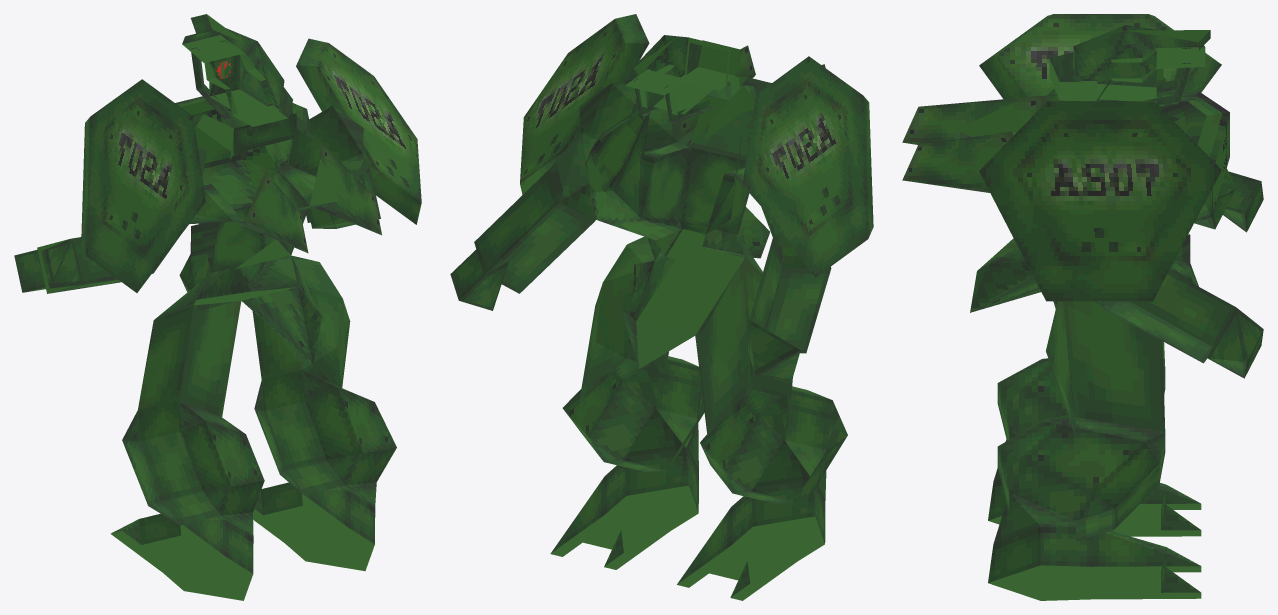
File: ps2_save-icons_assaultsuitsvalken.glb
3 views of the same model, side by side, from view 1: azimuth 30°, elevation 25°; view 2: azimuth 150°, elevation 25°; view 3: azimuth 270°, elevation 25° (orthographic). The views are drawn at different scales.
Parts seen in each view (by area): view 1: valkenv.ico; view 2: valkenv.ico; view 3: valkenv.ico.
Part boxes in pixels (x1,y1,x2,y2): valkenv.ico: [14, 14, 421, 600]; valkenv.ico: [450, 14, 873, 600]; valkenv.ico: [902, 14, 1263, 600].
Bounding box in the file's own units: 3.02 × 4.44 × 2.81.
Materials: 1 (1 with a texture image).
